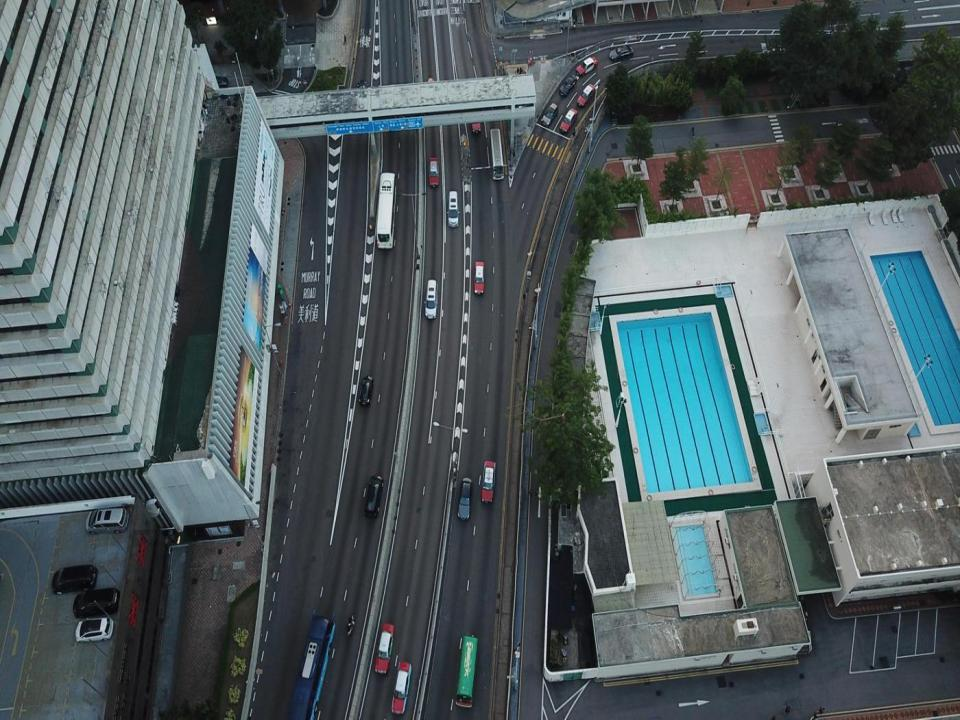bus: (284, 608, 334, 719), (376, 172, 396, 248), (456, 635, 477, 707), (490, 128, 504, 180)
car: (73, 588, 119, 618), (51, 565, 96, 594), (85, 507, 128, 534), (374, 623, 394, 674), (392, 662, 410, 714), (75, 618, 113, 642), (364, 475, 383, 516), (480, 459, 496, 503), (456, 477, 472, 519), (424, 279, 437, 318), (447, 190, 460, 226), (559, 108, 577, 133), (576, 83, 594, 107), (541, 102, 558, 127), (360, 374, 372, 406), (559, 74, 577, 95), (609, 46, 634, 61), (474, 261, 484, 295), (427, 157, 438, 187), (471, 106, 481, 133), (206, 76, 228, 88), (425, 78, 436, 95), (357, 80, 368, 94)
